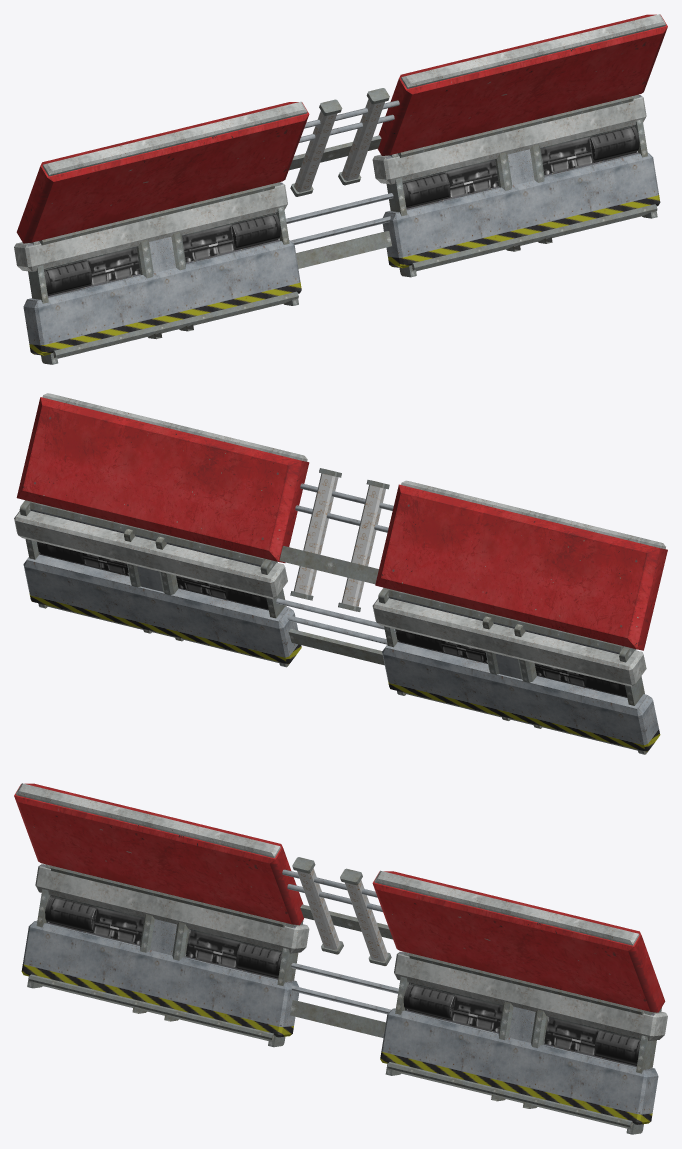
Rendered from Ob_RailSideDecorator_RC.fbx.
3 renders of one model, top to bottom at view 1: azimuth 30°, elevation 25°; view 2: azimuth 150°, elevation 25°; view 3: azimuth 330°, elevation 25°, orthographic.
Visible parts, largest first — view 1: Ob_RailSideDecorator_RC; view 2: Ob_RailSideDecorator_RC; view 3: Ob_RailSideDecorator_RC.
Part boxes in pixels (left/top/right/bottom): Ob_RailSideDecorator_RC: left=14, top=14, right=667, bottom=364; Ob_RailSideDecorator_RC: left=14, top=393, right=667, bottom=754; Ob_RailSideDecorator_RC: left=14, top=783, right=667, bottom=1134.
Size of the model in its own units: 2321 by 740 by 238.
